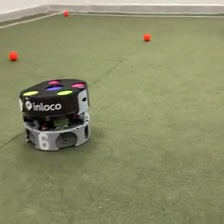ball: (8, 50, 19, 61), (143, 32, 150, 42), (63, 9, 69, 16)
robot: (17, 77, 92, 153)
